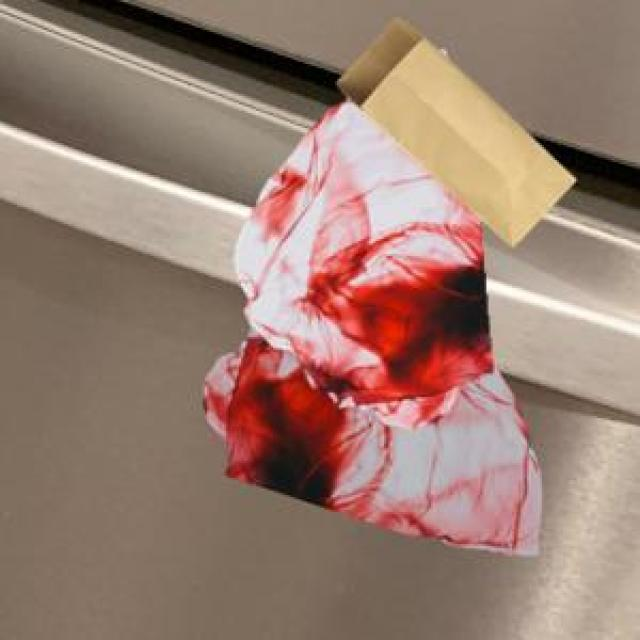paper: (333, 15, 572, 243)
